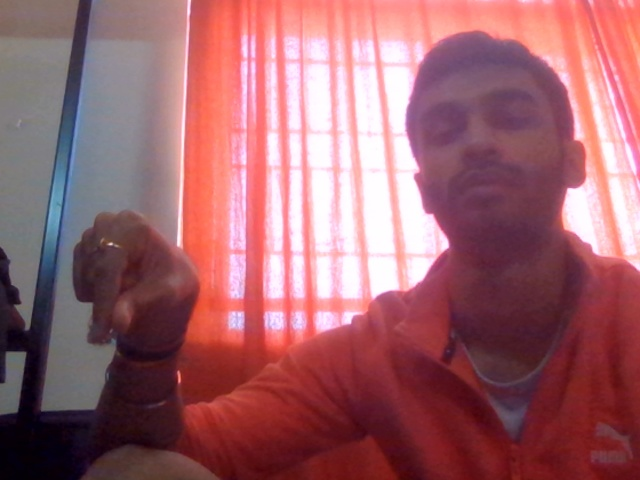Q: (68, 199, 228, 385)
